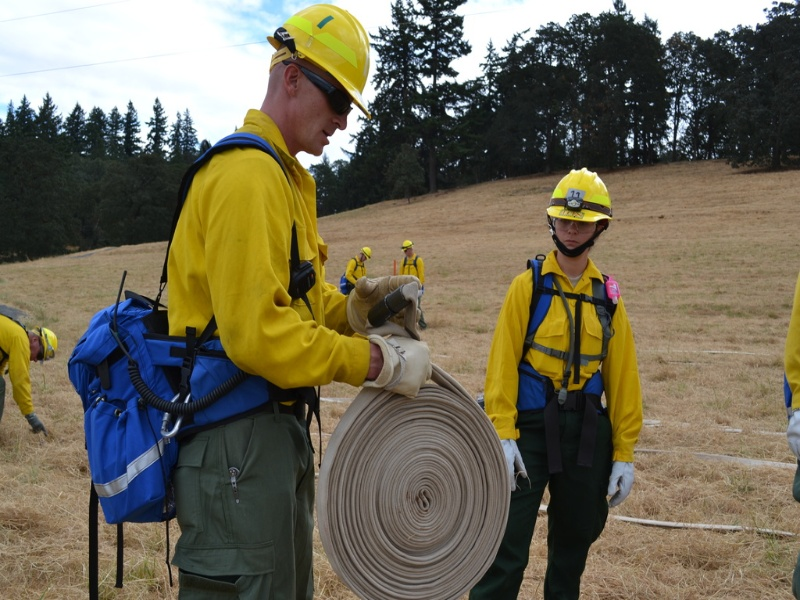Baret: (268, 3, 371, 95), (547, 168, 615, 223)
